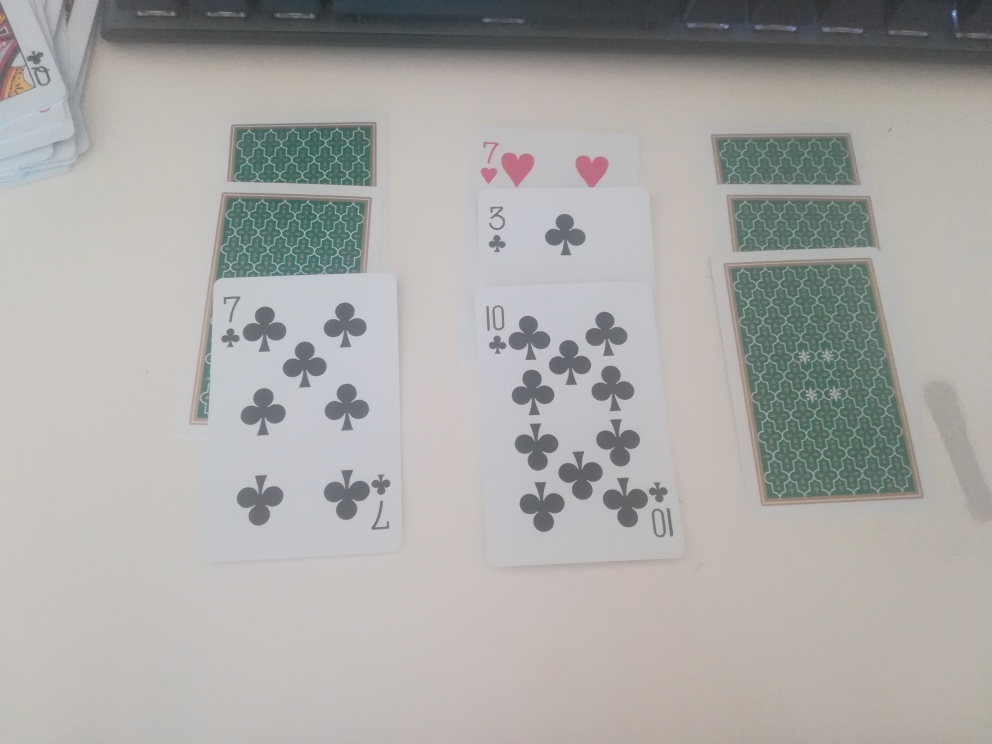10C: (481, 301, 513, 363)
3C: (485, 203, 515, 259)
7C: (219, 291, 243, 354)
7H: (478, 136, 505, 188)
BACK: (718, 259, 928, 504), (220, 192, 370, 272), (724, 192, 887, 257), (228, 123, 381, 192), (714, 130, 861, 182)
